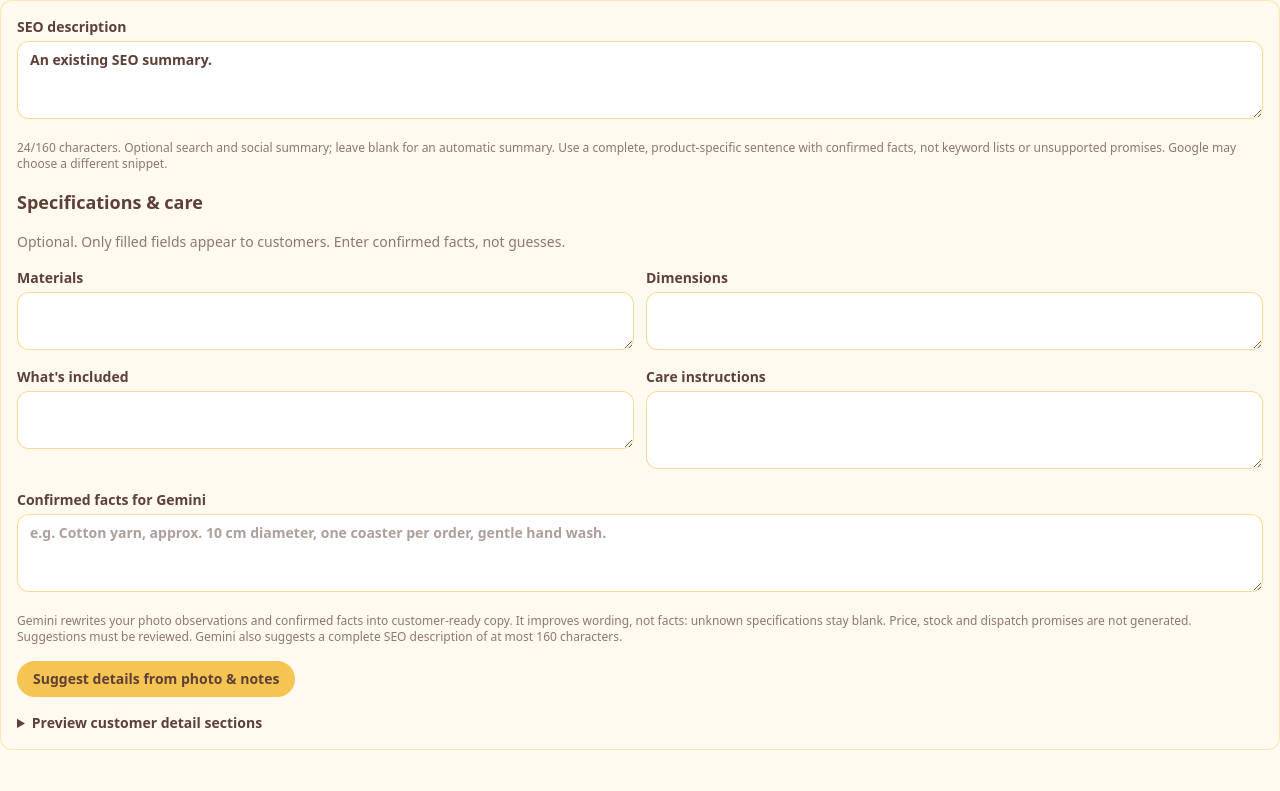
Test case: ProductDetailsEditor › omits the confirmation reminder when all specifications were suggested
Click the button "Suggest details from photo & notes" at (156,679), box [17,661,295,697]
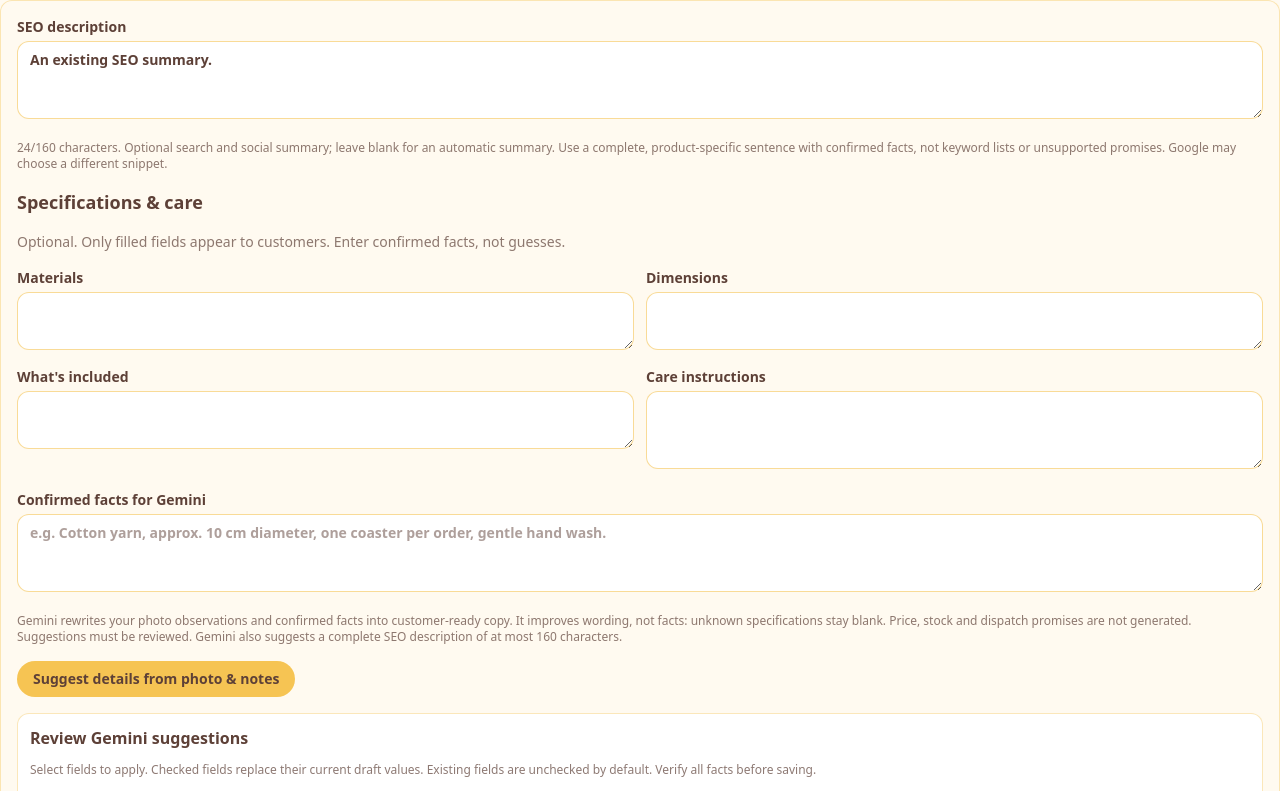
Check: the heading "Review Gemini suggestions" is shown, box [30,727,248,749]
